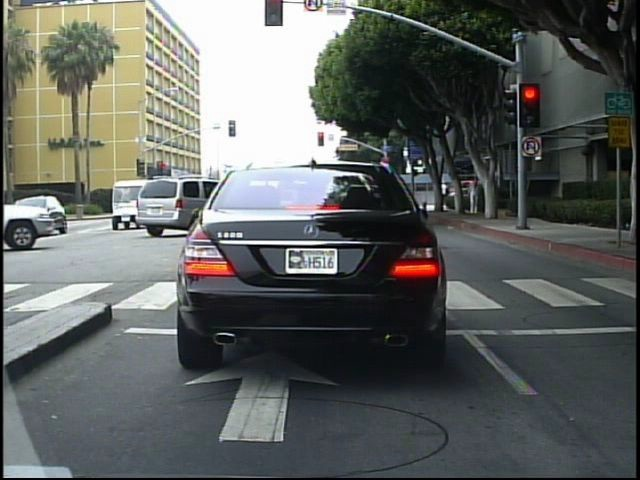person: (632, 166, 638, 280), (468, 179, 482, 218), (437, 178, 452, 212), (635, 166, 638, 279)
